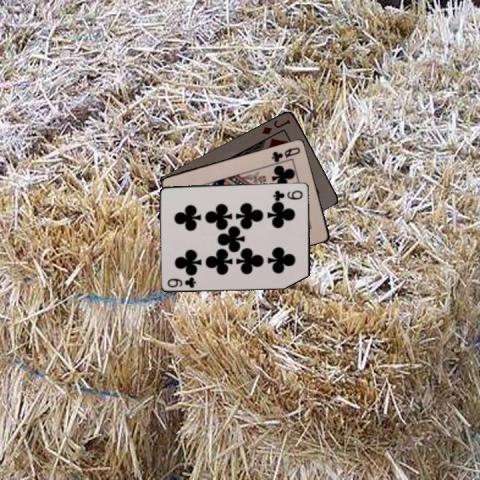9c: (165, 274, 197, 289), (270, 187, 304, 200)
Jd: (259, 116, 292, 135)
Qc: (269, 144, 302, 163)
